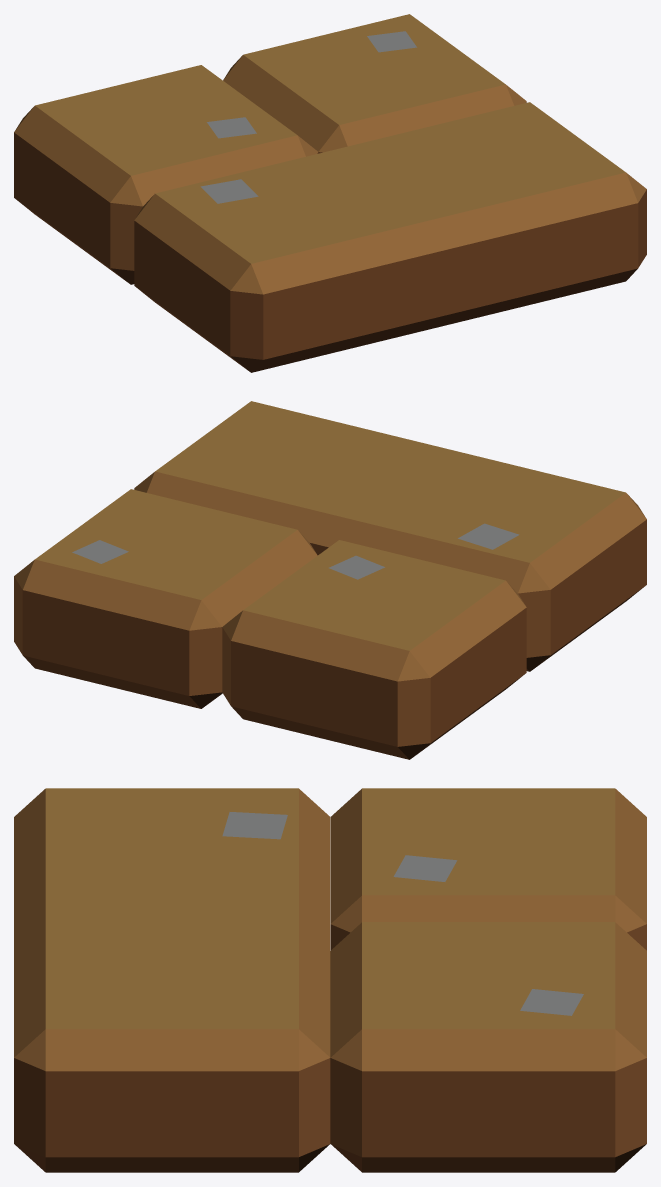
File: m_kub_dirt_flatMixed.FBX
3 renders of one model, top to bottom at view 1: azimuth 30°, elevation 25°; view 2: azimuth 150°, elevation 25°; view 3: azimuth 270°, elevation 25°, orthographic. The views are drawn at different scales.
Visible parts, largest first — view 1: m_kub_dirt_flatMixed; view 2: m_kub_dirt_flatMixed; view 3: m_kub_dirt_flatMixed.
Boxes of the visible parts, x1,y1,x2,y2 form: m_kub_dirt_flatMixed: (14, 14, 646, 372); m_kub_dirt_flatMixed: (14, 401, 646, 759); m_kub_dirt_flatMixed: (14, 788, 646, 1172).
Size of the model in its own units: 2 by 0.5 by 2.
